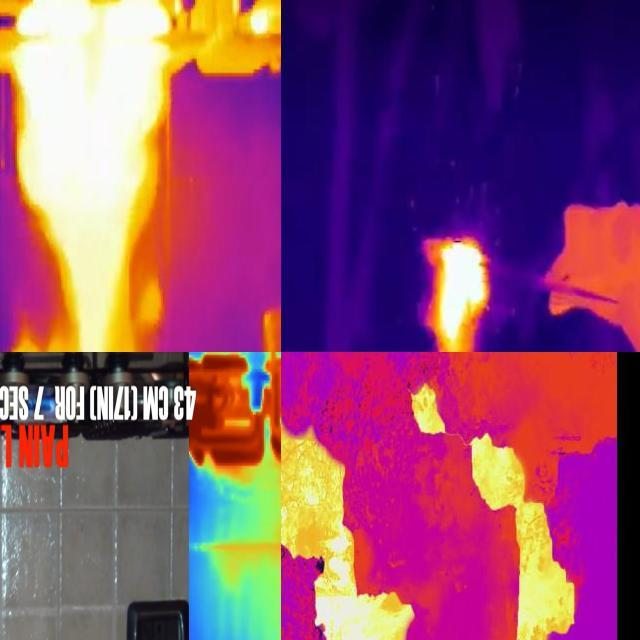fire: (1, 1, 171, 353), (280, 415, 415, 640), (460, 430, 576, 640), (421, 234, 491, 353), (406, 376, 457, 446), (245, 6, 276, 46)
